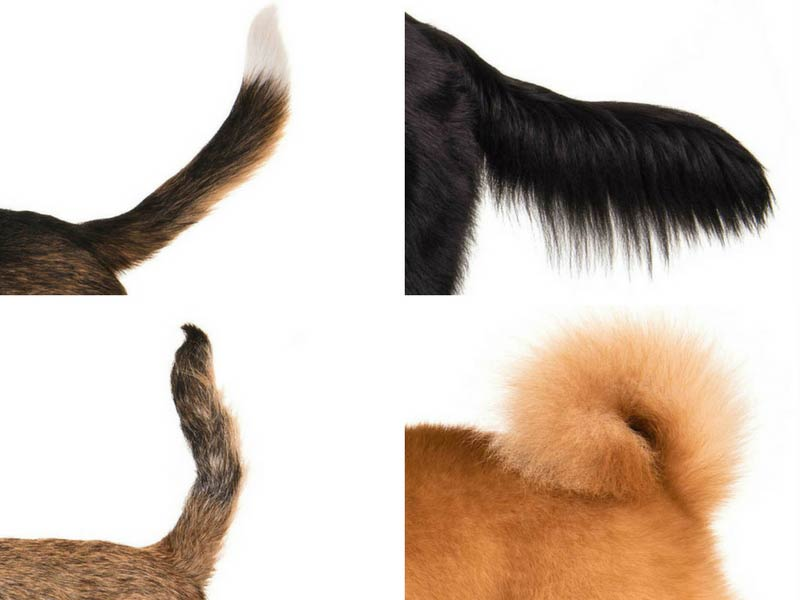tail: (83, 3, 314, 277)
